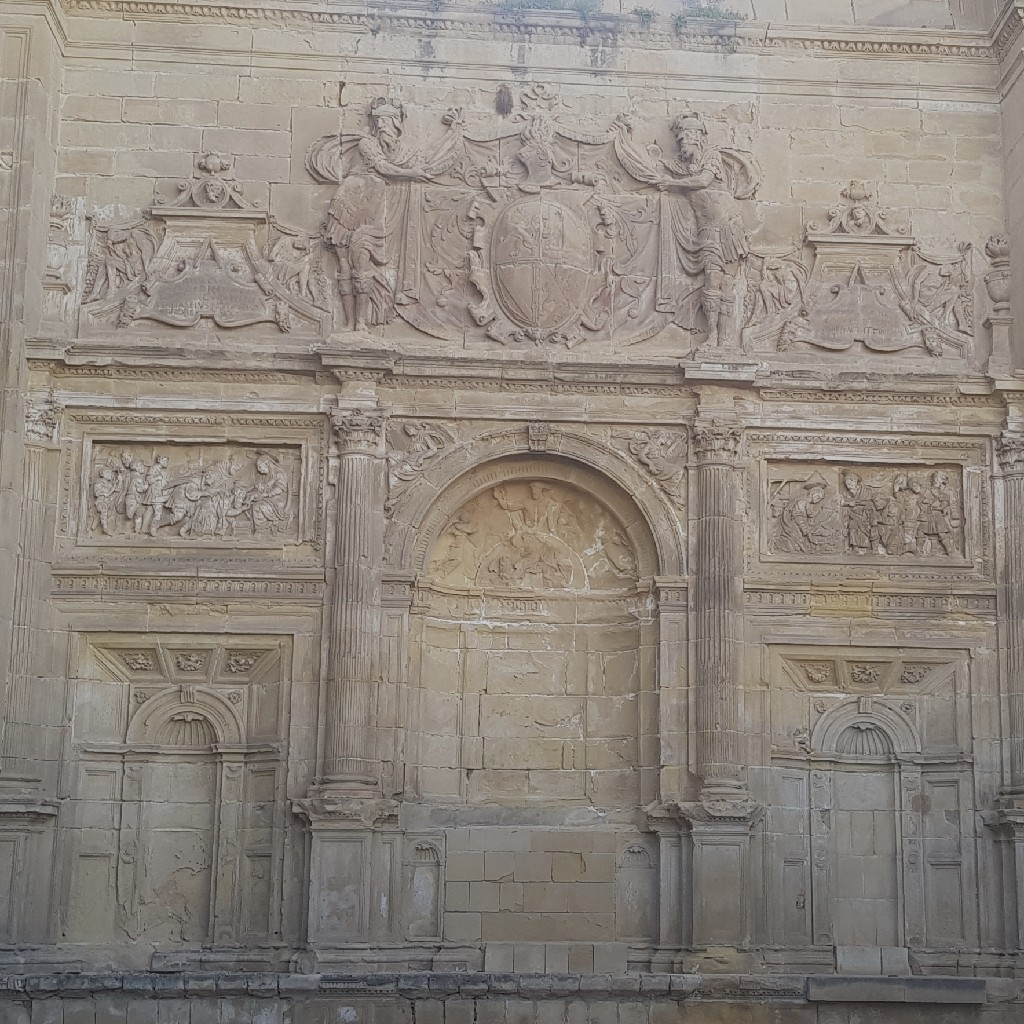arco-medio-punto: (395, 434, 676, 620)
serliana: (48, 429, 1007, 1003)
